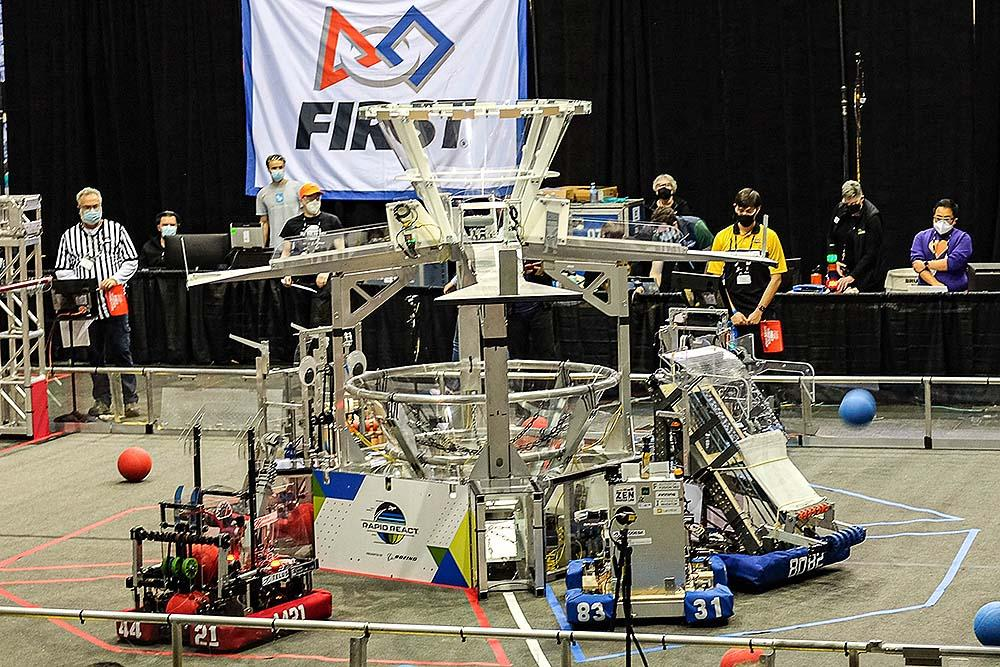robot: (116, 400, 332, 644), (652, 345, 867, 590), (563, 459, 734, 624)
